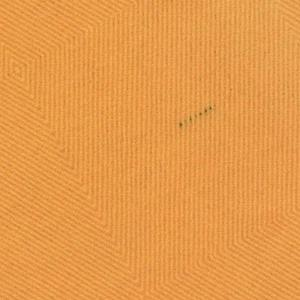stain: (175, 102, 220, 134)
